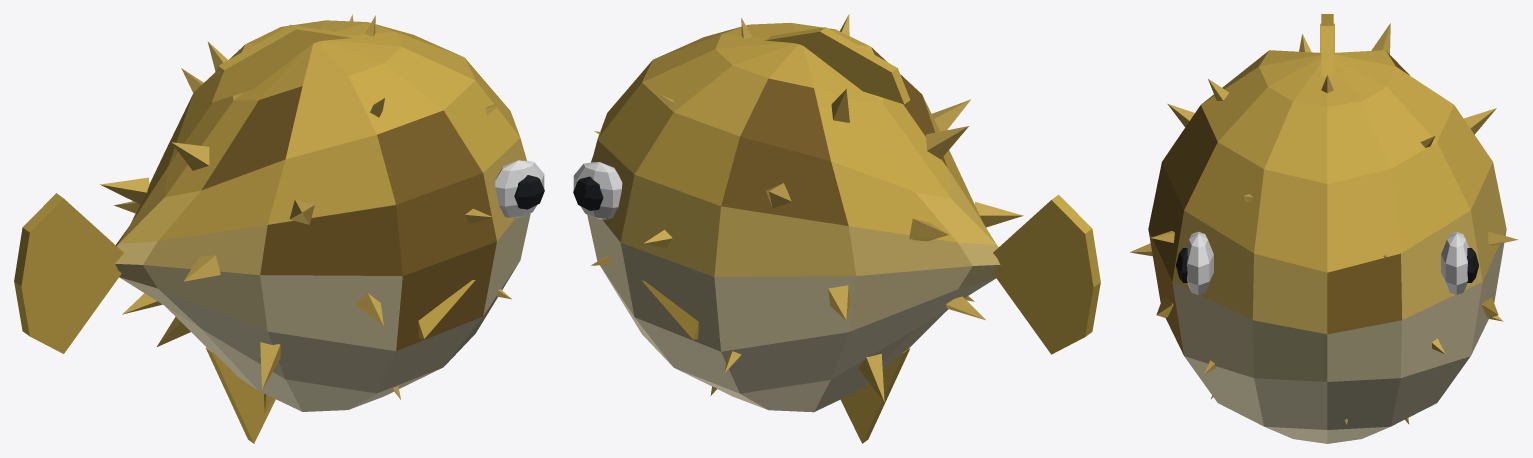
The model's file is fish-pufferfish.glb.
The picture shows the model from 3 angles, left to right: view 1: azimuth 30°, elevation 25°; view 2: azimuth 150°, elevation 25°; view 3: azimuth 270°, elevation 25°; orthographic projection. The views are drawn at different scales.
Visible parts, largest first — view 1: fish-pufferfish; view 2: fish-pufferfish; view 3: fish-pufferfish.
Boxes of the visible parts, <box> form: fish-pufferfish: <box>14,14,544,443</box>; fish-pufferfish: <box>573,14,1100,443</box>; fish-pufferfish: <box>1130,14,1517,443</box>.
Bounding box in the file's own units: 1.2 × 0.911 × 0.7823.
